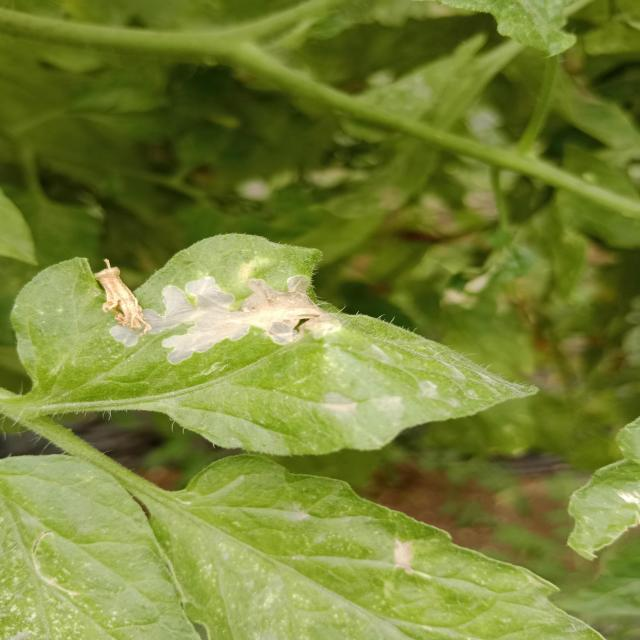Tuta absoluta: (102, 248, 343, 386)
